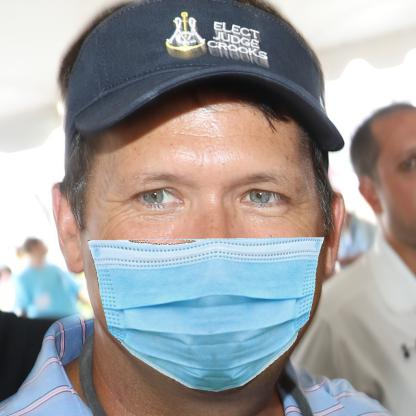Correctly_Masked: (83, 131, 327, 393)
